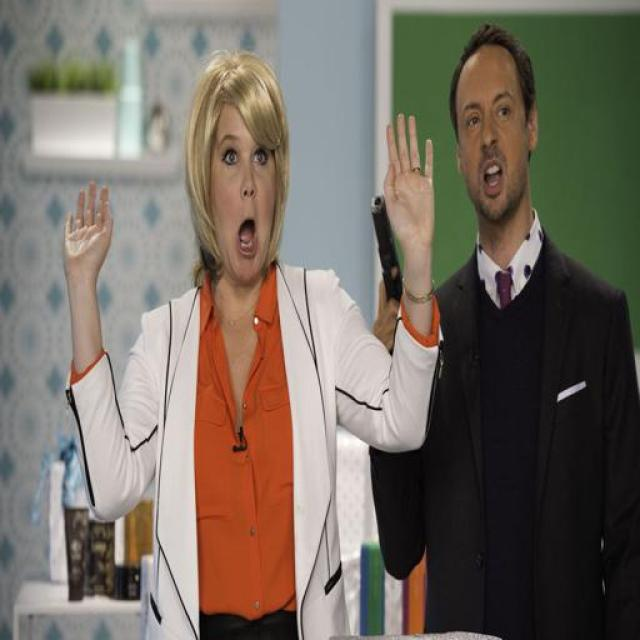pistol: (372, 181, 420, 355)
